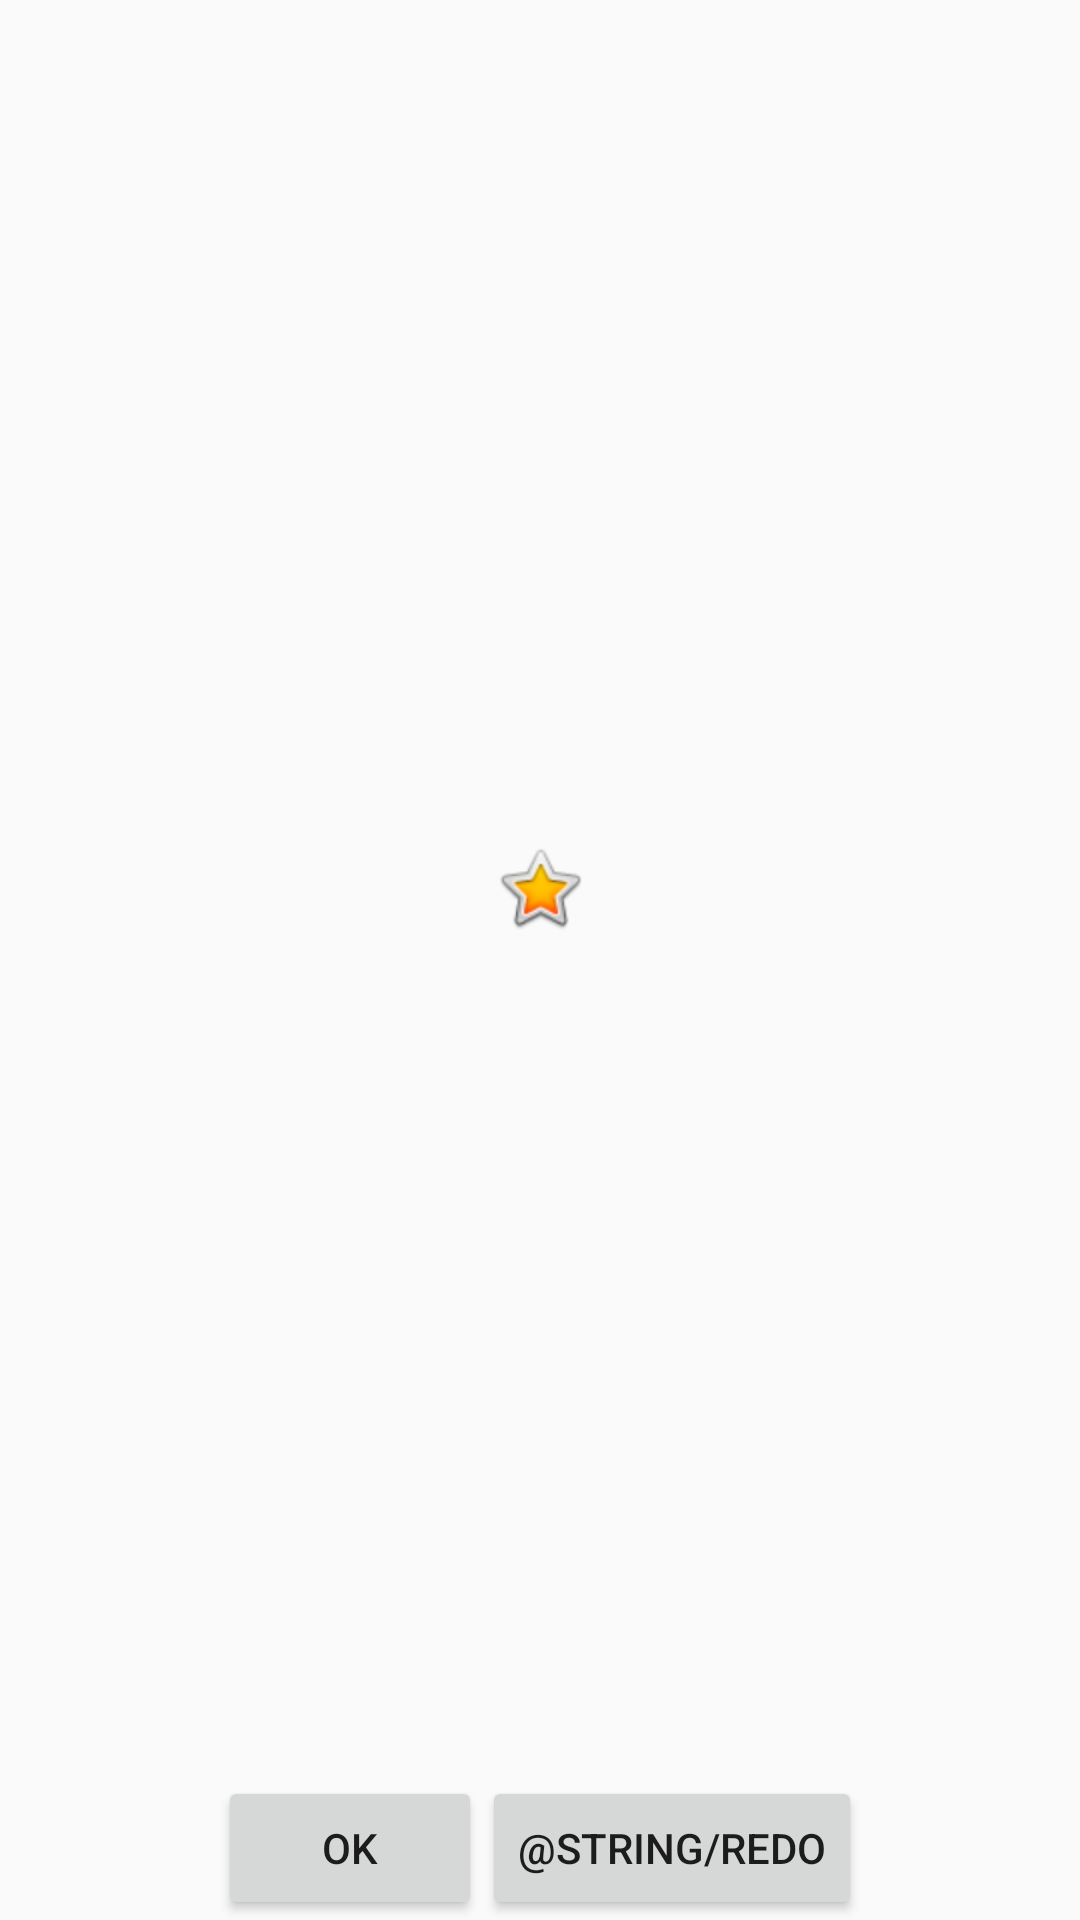

Screen size 1080x1920. Icon name, then its center in pixels as (x=x, y=y):
star on: (x=541, y=889)
